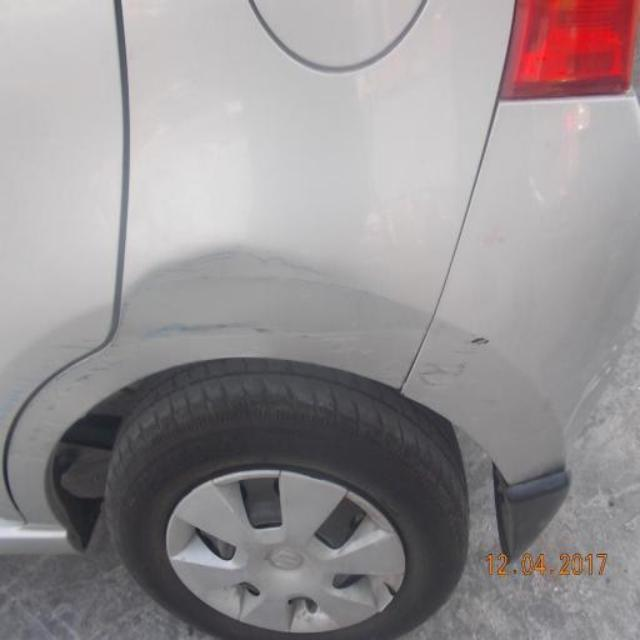crack: (468, 332, 491, 349)
scratch: (16, 244, 398, 447), (143, 319, 389, 357), (419, 355, 468, 393)
